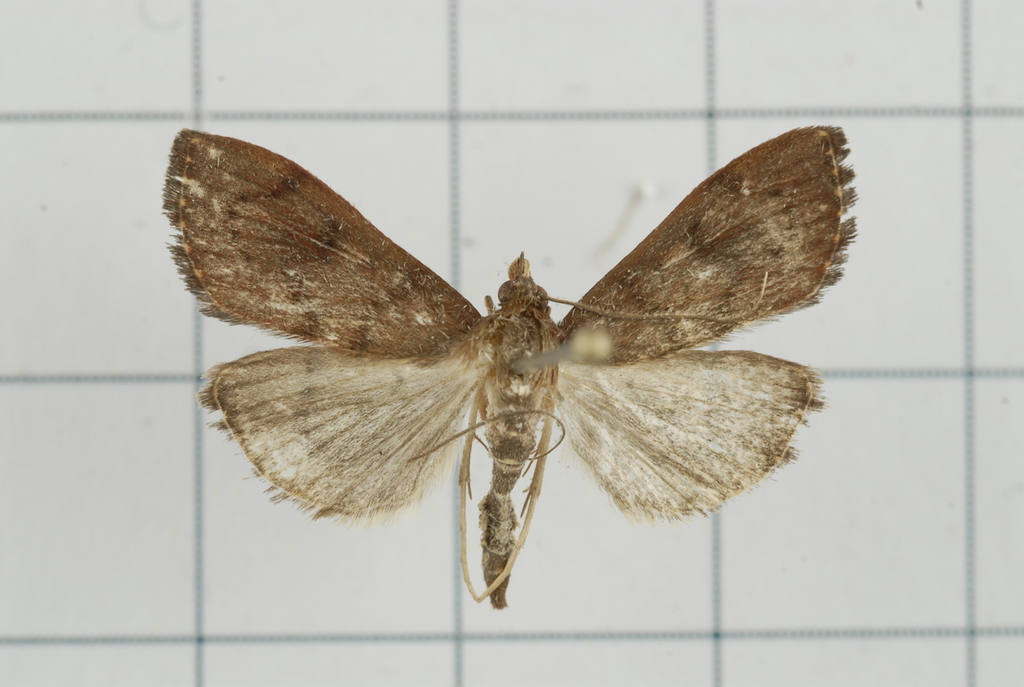Butterfly: (167, 117, 850, 614)
